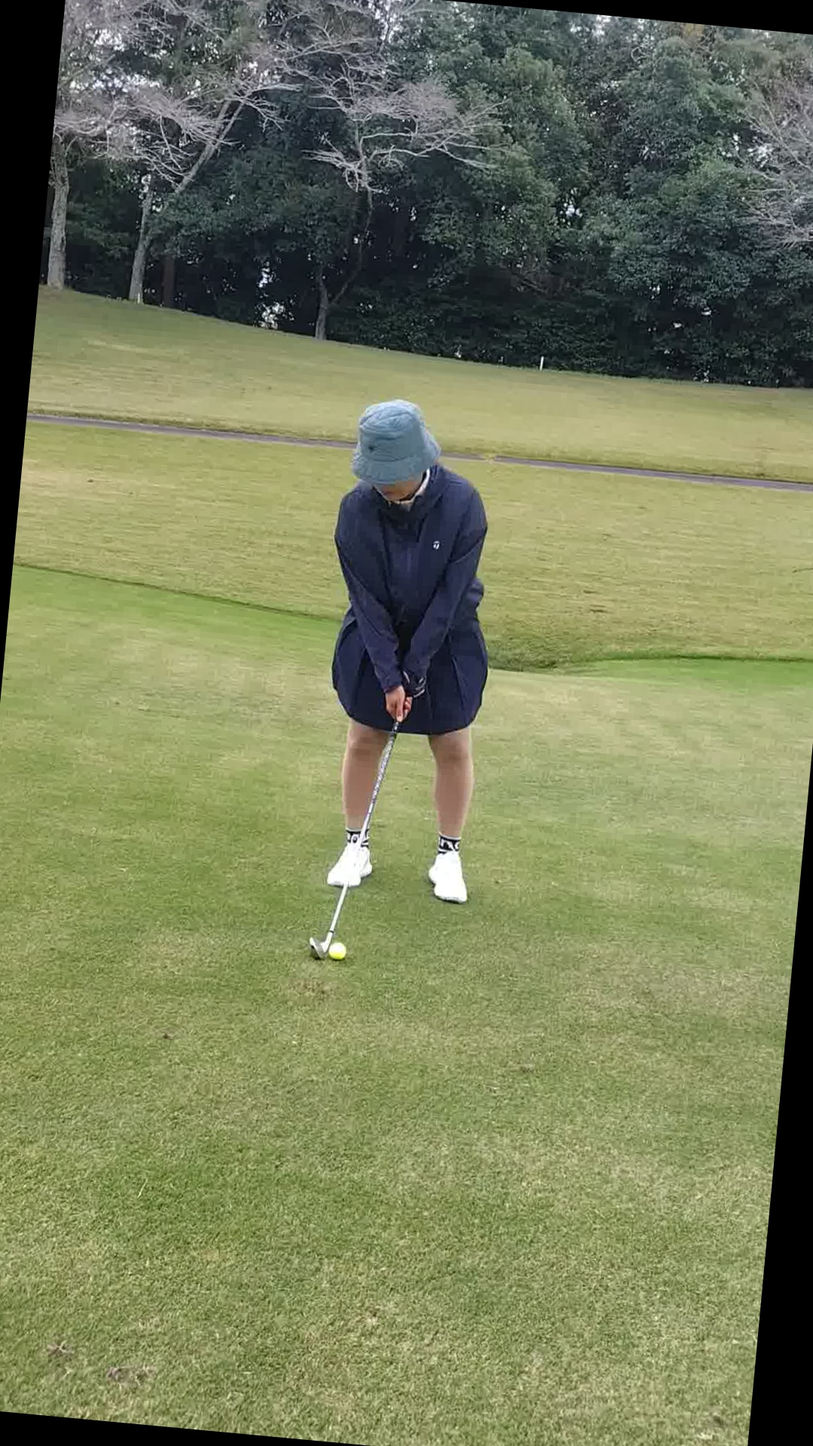clubhead: (246, 895, 399, 1016)
